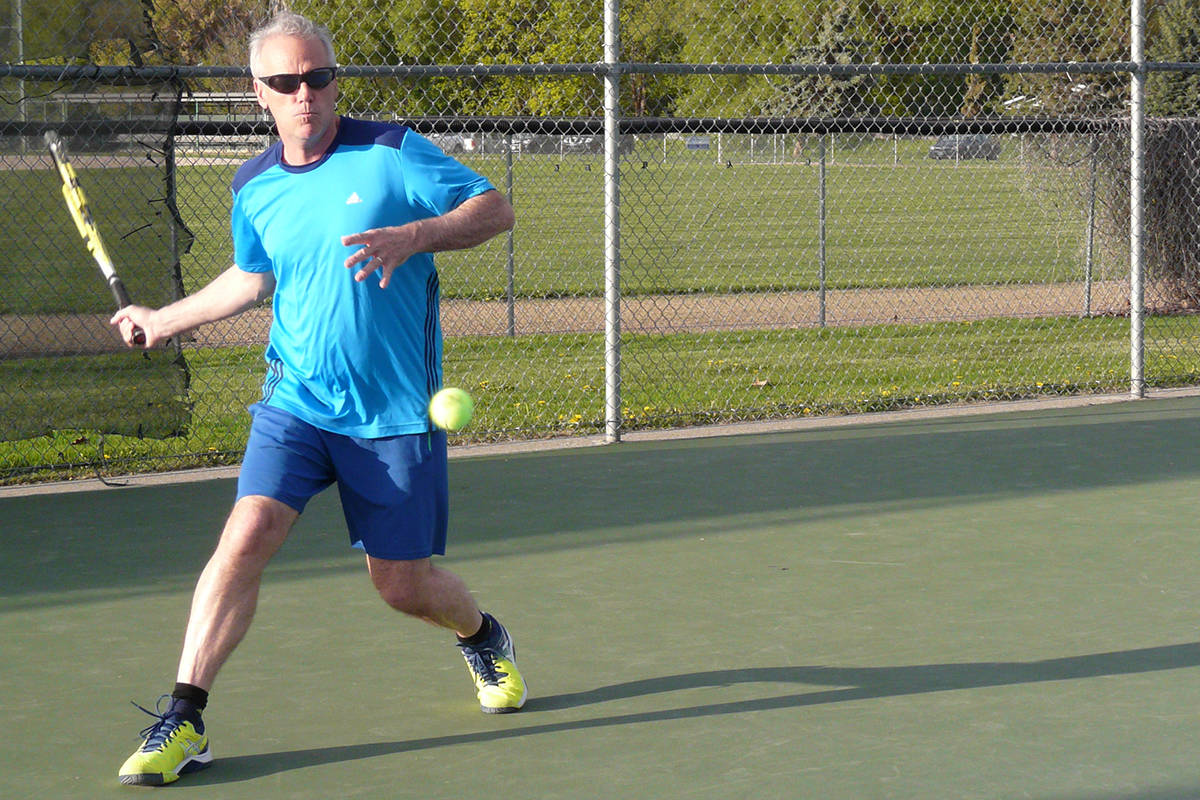tennis_ball: (430, 386, 476, 435)
